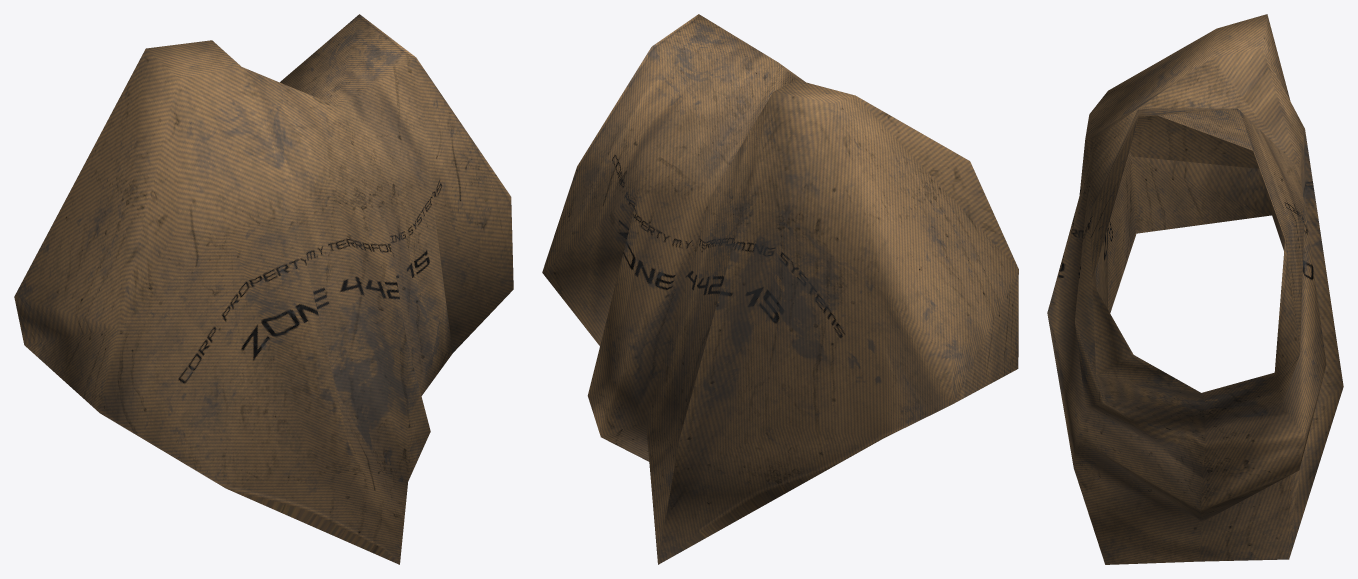
Rendered from Antenna_06_Tilt_L3.fbx.
The picture shows the model from 3 angles, left to right: view 1: azimuth 30°, elevation 25°; view 2: azimuth 150°, elevation 25°; view 3: azimuth 270°, elevation 25°; orthographic projection. The views are drawn at different scales.
Parts seen in each view (by area): view 1: polySurface1598; view 2: polySurface1598; view 3: polySurface1598.
Part boxes in pixels (x1=…): polySurface1598: x1=14, y1=14, x2=513, y2=564; polySurface1598: x1=542, y1=14, x2=1018, y2=564; polySurface1598: x1=1047, y1=14, x2=1343, y2=564.
Size of the model in its own units: 495 by 568 by 323.
